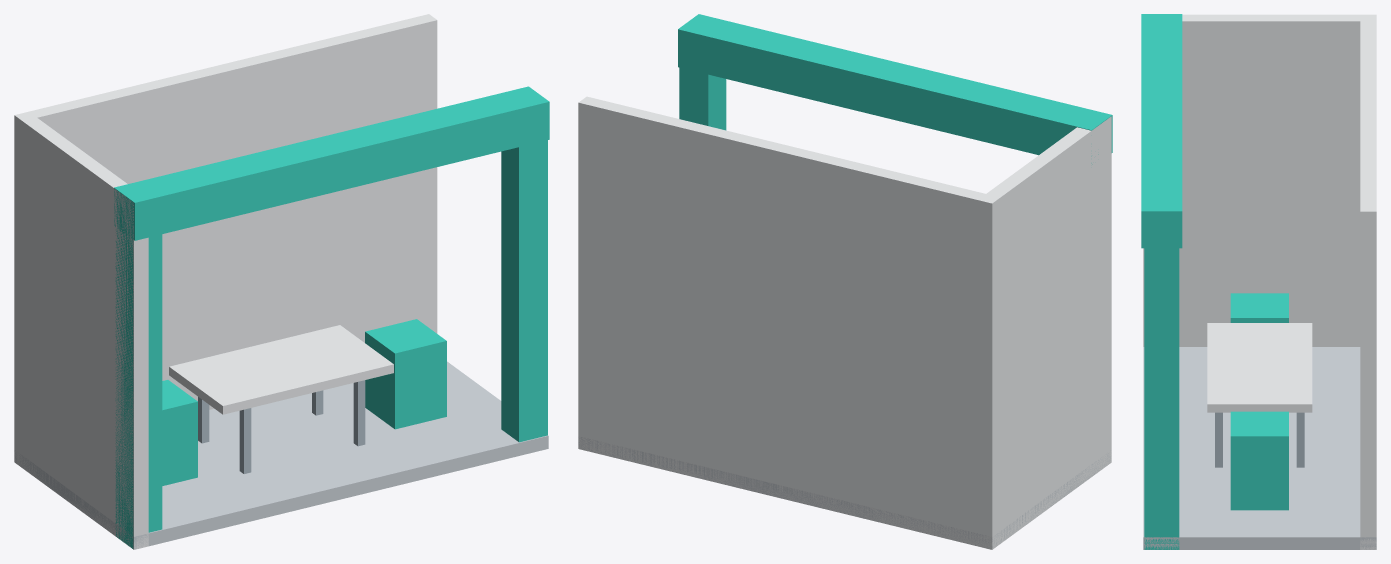
3 renders of one model, left to right at view 1: azimuth 30°, elevation 25°; view 2: azimuth 150°, elevation 25°; view 3: azimuth 270°, elevation 25°, orthographic. The views are drawn at different scales.
Visible parts, largest first — view 1: Exhibition Booth Concept; view 2: Exhibition Booth Concept; view 3: Exhibition Booth Concept.
Part boxes in pixels (box(x1,y1,x2,y2)): Exhibition Booth Concept: box(14, 14, 549, 549); Exhibition Booth Concept: box(578, 14, 1112, 549); Exhibition Booth Concept: box(1141, 14, 1376, 549).
Size of the model in its own units: 4 by 3.2 by 2.01.
